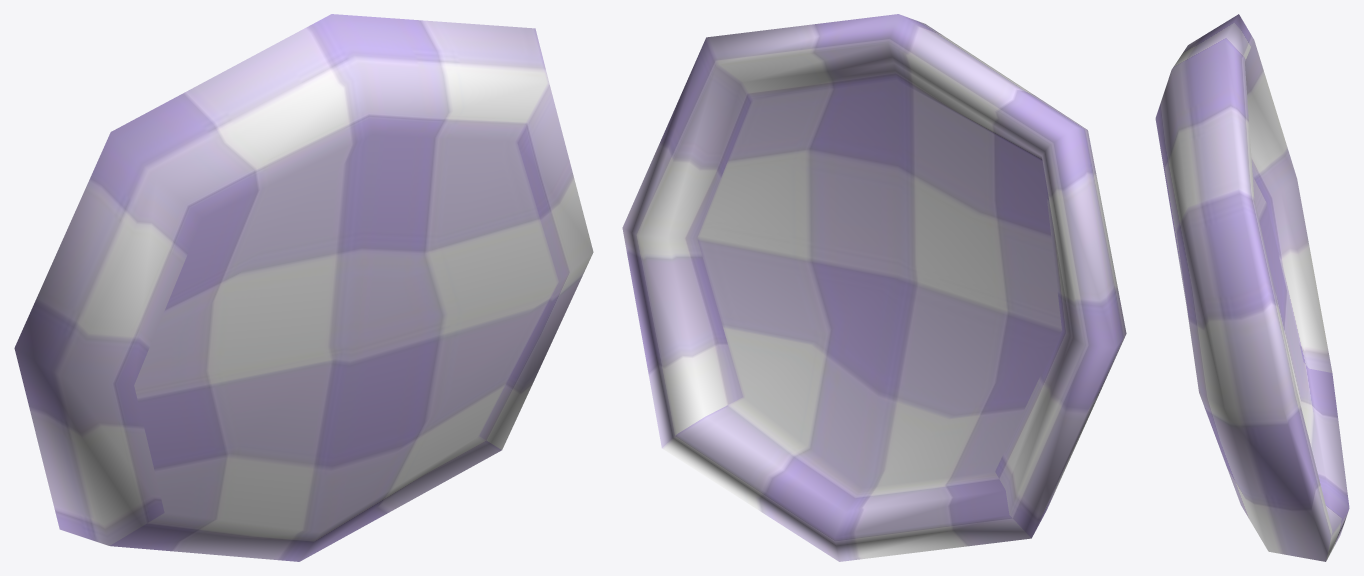
Rendered from cat_Rebound.fbx.
The picture shows the model from 3 angles, left to right: view 1: azimuth 30°, elevation 25°; view 2: azimuth 150°, elevation 25°; view 3: azimuth 270°, elevation 25°; orthographic projection. The views are drawn at different scales.
Parts seen in each view (by area): view 1: pCube1; view 2: pCube1; view 3: pCube1.
Boxes of the visible parts, x1,y1,x2,y2 form: pCube1: (14,14,593,561); pCube1: (622,14,1126,561); pCube1: (1155,14,1349,561).
Bounding box in the file's own units: 5.93 × 5.8 × 2.06.
1 material, 1 textured.
